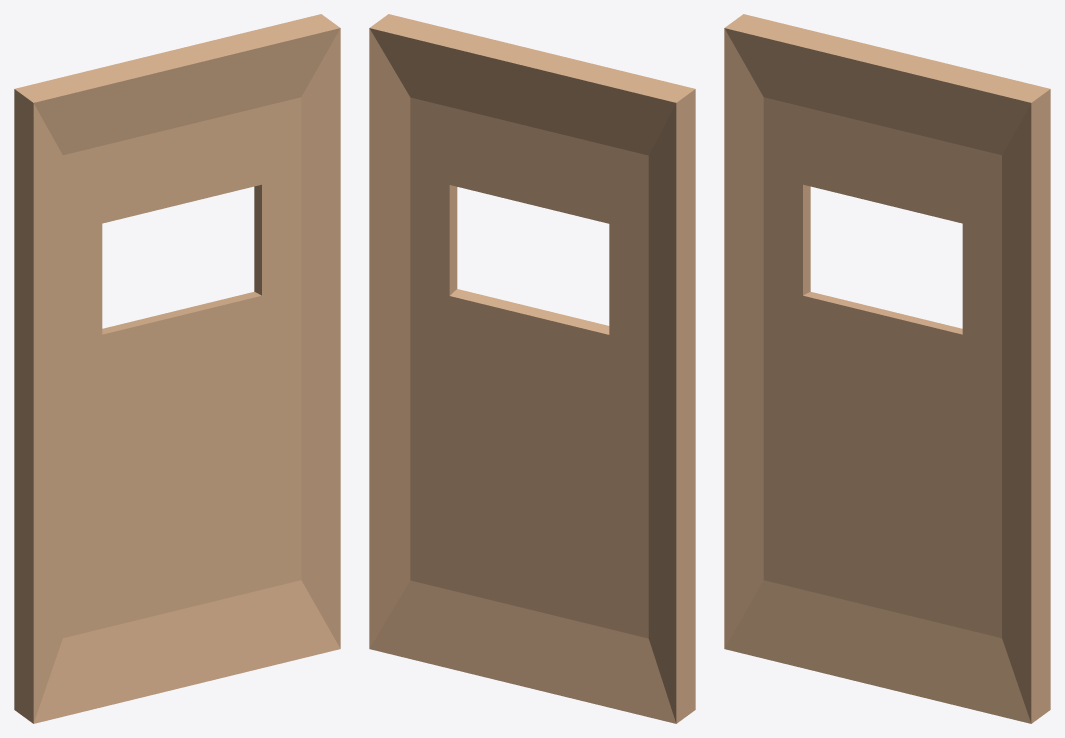
Rendered from Door.fbx.
3 renders of one model, left to right at view 1: azimuth 30°, elevation 25°; view 2: azimuth 150°, elevation 25°; view 3: azimuth 330°, elevation 25°, orthographic.
Visible parts, largest first — view 1: Куб; view 2: Куб; view 3: Куб.
Part boxes in pixels (bbox=[...]): Куб: bbox=[14, 14, 340, 723]; Куб: bbox=[369, 14, 695, 723]; Куб: bbox=[724, 14, 1050, 723].
Bounding box in the file's own units: 46.54 × 89.96 × 5.04.
